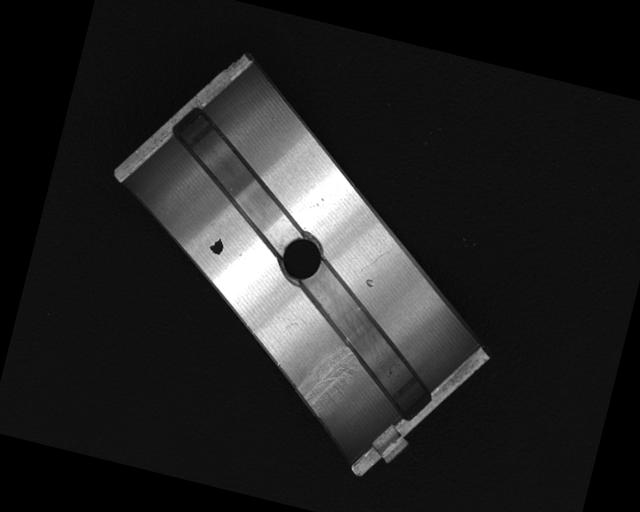blot: (207, 236, 226, 257)
bruise: (363, 277, 375, 289)
gap: (276, 263, 454, 424), (150, 103, 324, 256)
hole: (277, 230, 327, 285)
scratch: (291, 331, 365, 423)
